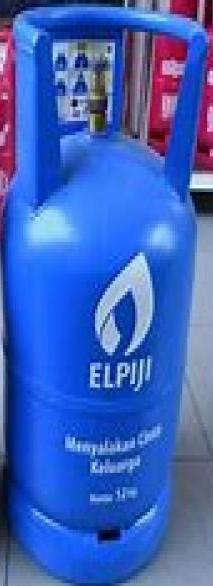cylinder: (1, 1, 213, 586)
